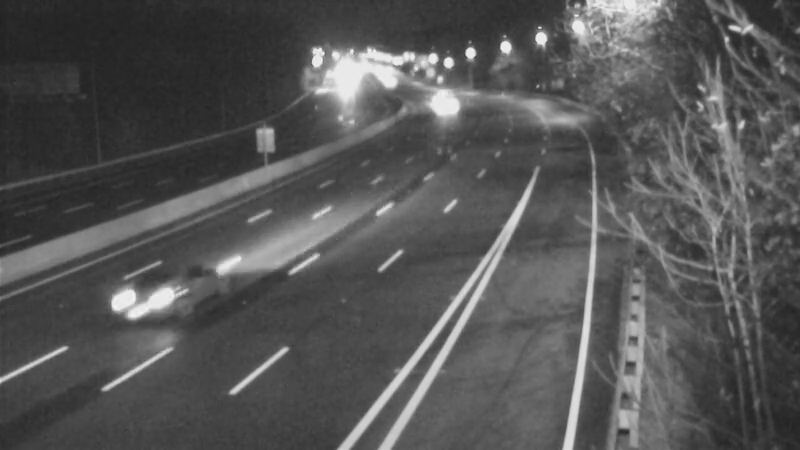vehicle: (116, 257, 196, 337), (412, 67, 462, 117), (415, 77, 465, 127), (425, 78, 475, 128)
